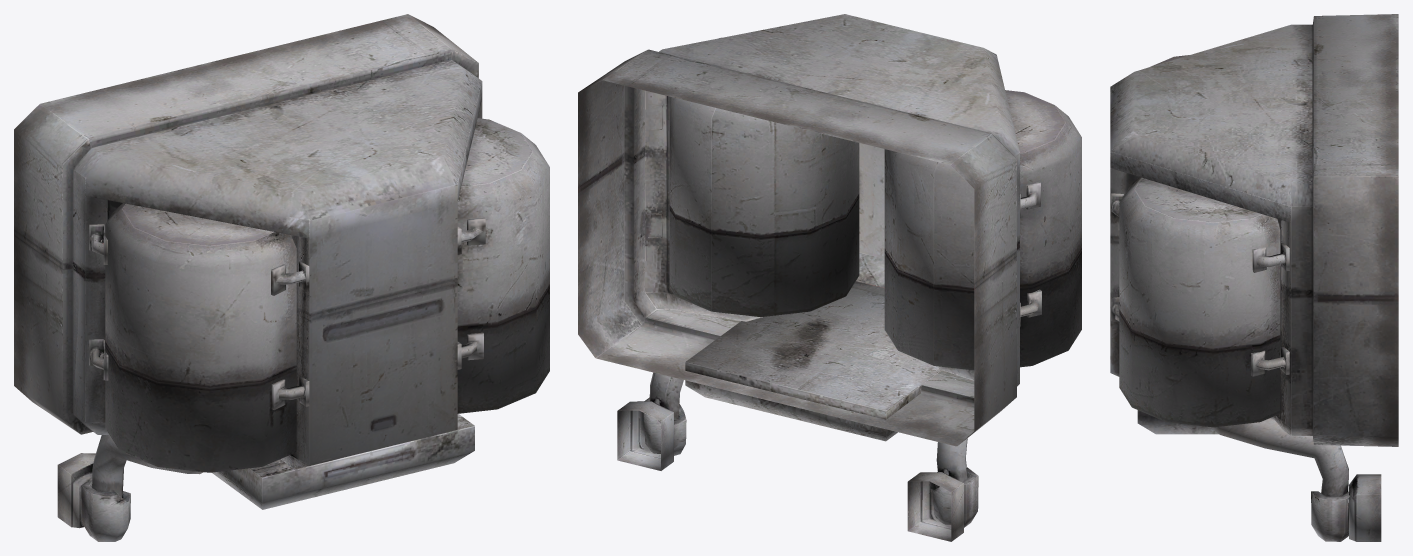
The model's file is tech_wall_theta_03.DAE.
3 views of the same model, side by side, from view 1: azimuth 30°, elevation 25°; view 2: azimuth 150°, elevation 25°; view 3: azimuth 270°, elevation 25° (orthographic). The views are drawn at different scales.
Parts seen in each view (by area): view 1: tech_wall_theta_03; view 2: tech_wall_theta_03; view 3: tech_wall_theta_03.
Boxes of the visible parts, box(x1,y1,x2,y2) form: tech_wall_theta_03: box(14, 14, 549, 541); tech_wall_theta_03: box(578, 14, 1081, 541); tech_wall_theta_03: box(1110, 14, 1398, 541).
Size of the model in its own units: 1.82 by 1.71 by 1.2.
